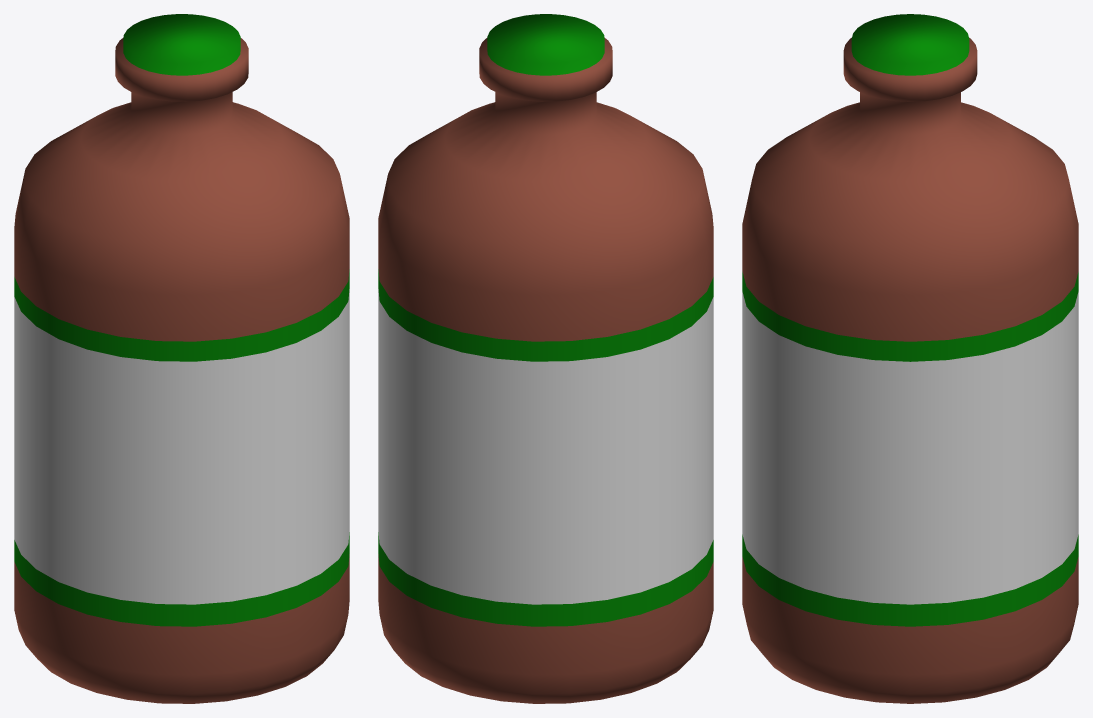
The model's file is AcidBottle.fbx.
3 renders of one model, left to right at view 1: azimuth 30°, elevation 25°; view 2: azimuth 150°, elevation 25°; view 3: azimuth 270°, elevation 25°, orthographic.
Visible parts, largest first — view 1: Cylinder.021; view 2: Cylinder.021; view 3: Cylinder.021.
Boxes of the visible parts, box(x1,y1,x2,y2) form: Cylinder.021: box(14, 14, 349, 703); Cylinder.021: box(378, 14, 713, 703); Cylinder.021: box(742, 14, 1078, 703).
Bounding box in the file's own units: 208 × 414 × 208.
